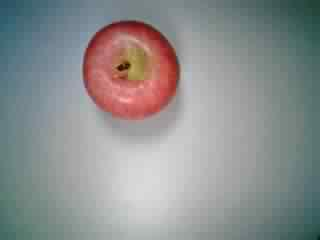apple: (78, 19, 183, 121)
